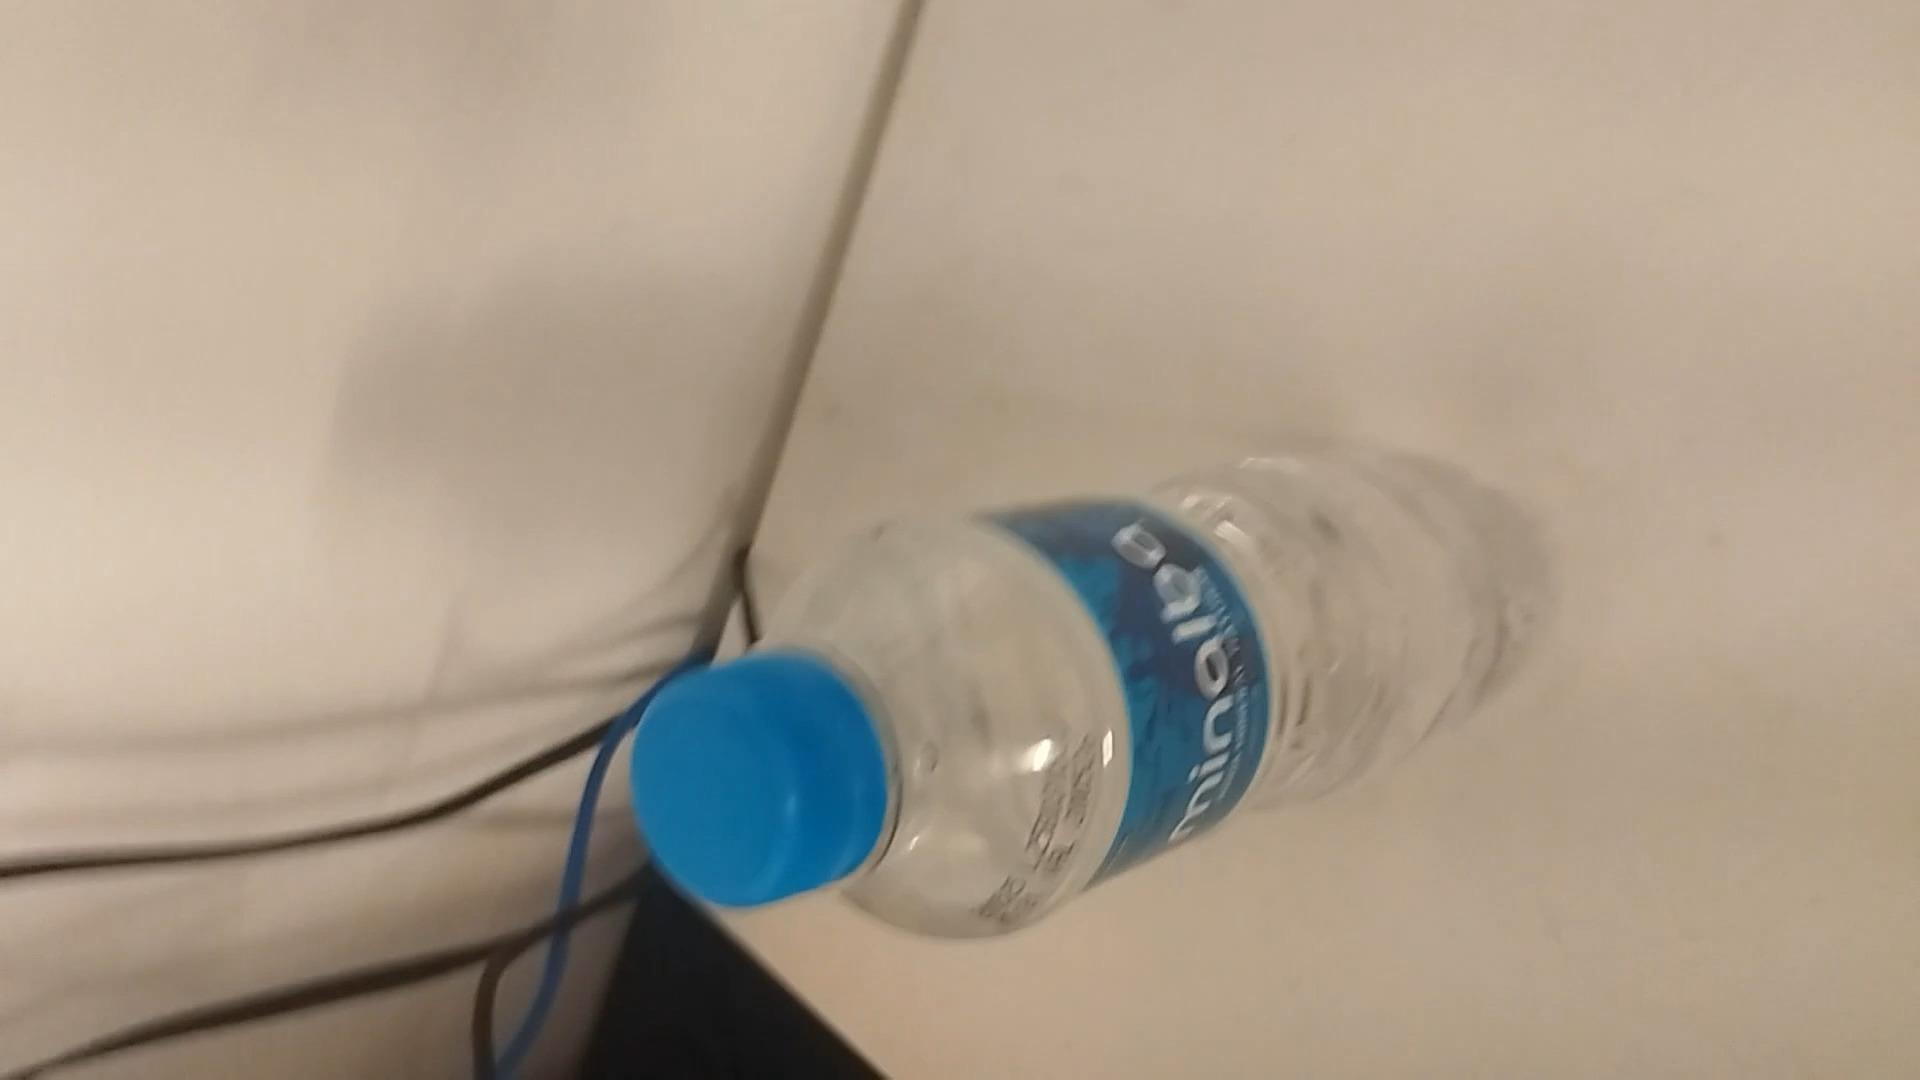agua: (638, 446, 1526, 942)
